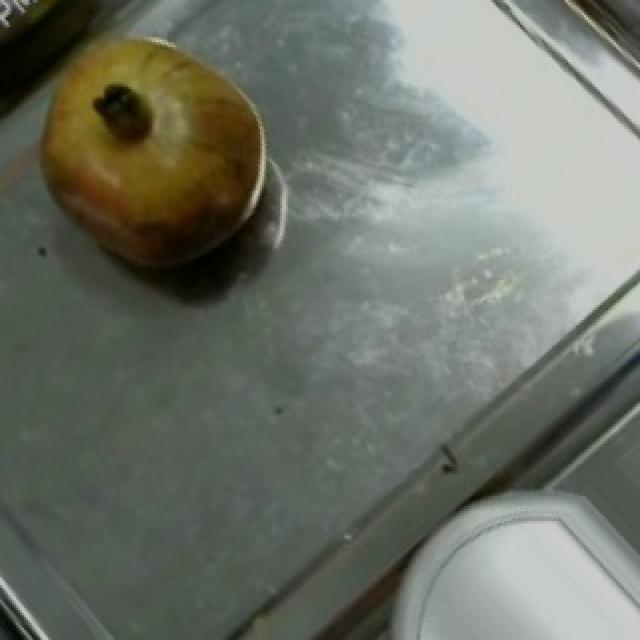fruit: (10, 0, 300, 280)
